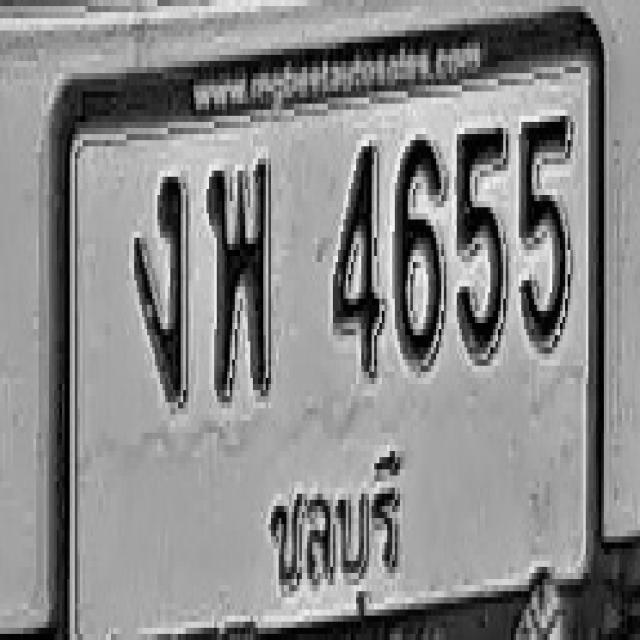16NgorNgu: (134, 171, 186, 402)
39PhorPan: (206, 159, 271, 396)
4: (332, 140, 381, 378)
5: (519, 113, 570, 350), (457, 125, 506, 357)
6: (393, 134, 442, 366)
Chonburi: (253, 430, 413, 628)
